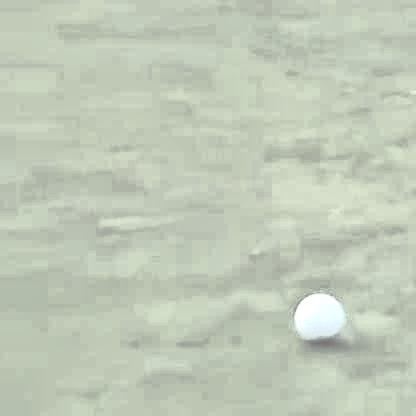golfball: (288, 287, 339, 341)
